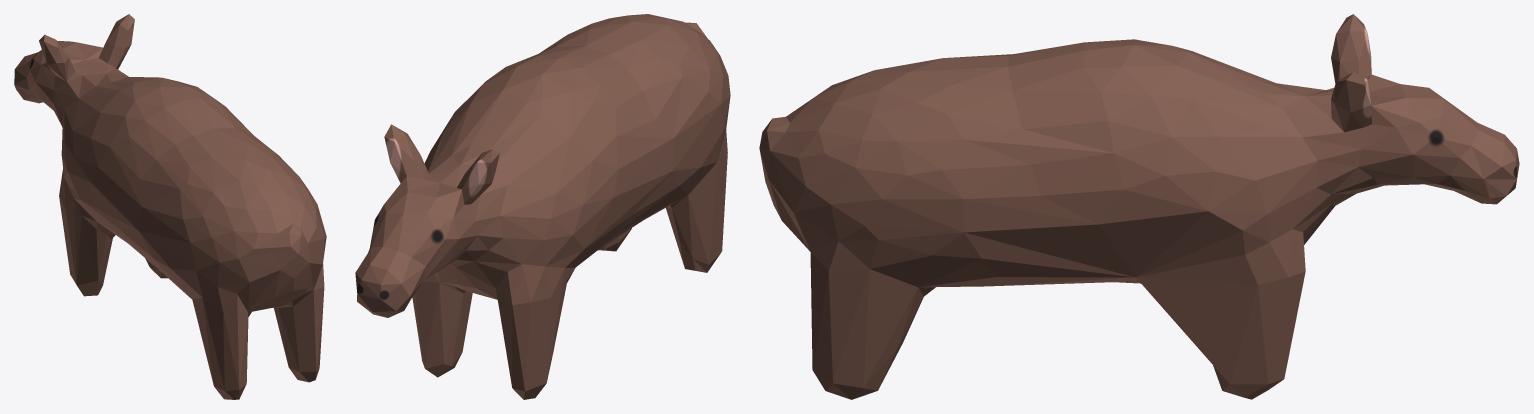
File: animal_moose_female_blob.obj
3 views of the same model, side by side, from view 1: azimuth 30°, elevation 25°; view 2: azimuth 150°, elevation 25°; view 3: azimuth 270°, elevation 25° (orthographic). The views are drawn at different scales.
Parts seen in each view (by area): view 1: animal_moose_female_blob; view 2: animal_moose_female_blob; view 3: animal_moose_female_blob.
Boxes of the visible parts, x1,y1,x2,y2 form: animal_moose_female_blob: (14,14,326,399); animal_moose_female_blob: (355,14,730,399); animal_moose_female_blob: (759,14,1519,399).
Size of the model in its own units: 0.5504 by 0.8799 by 1.84.
